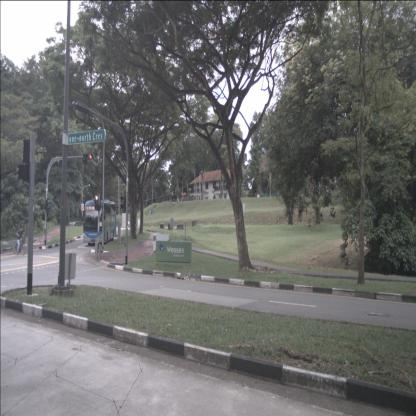vehicle-bicycle: (15, 226, 26, 255)
vehicle-bus-rigid: (82, 198, 116, 245)
